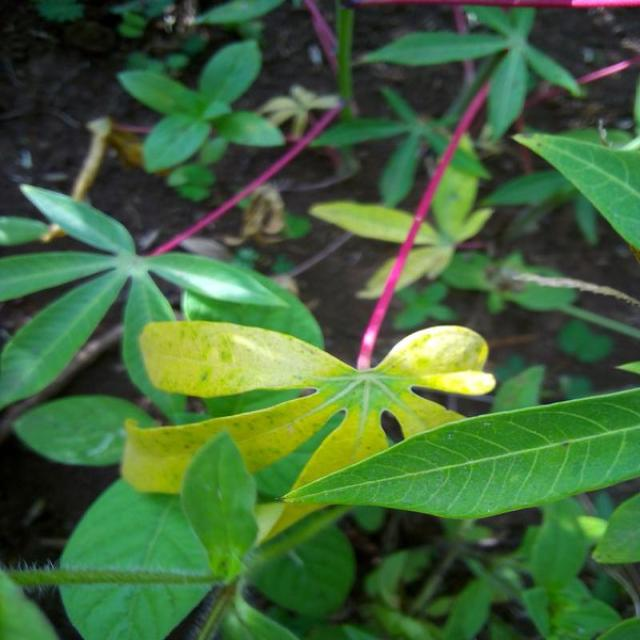cassava leaf: (121, 317, 496, 502), (281, 381, 640, 520)
